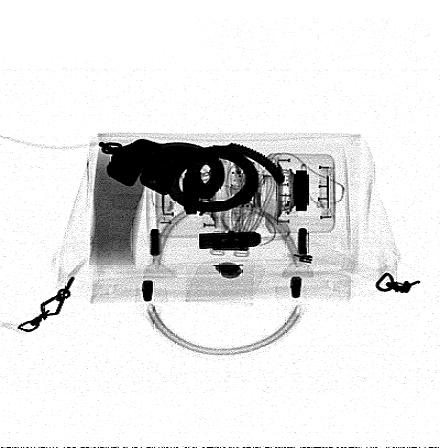HandCuffs: (97, 138, 286, 215)
